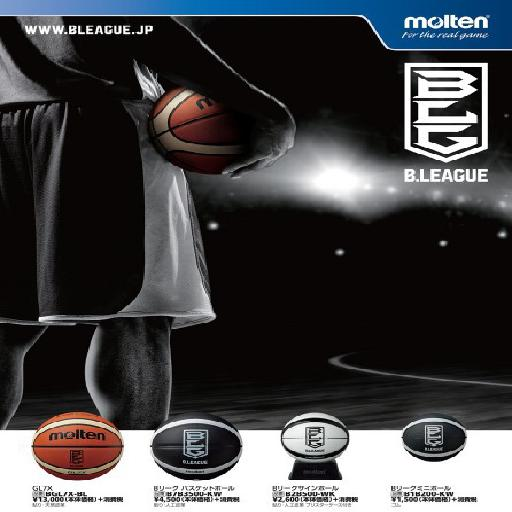ball: (31, 411, 122, 481)
